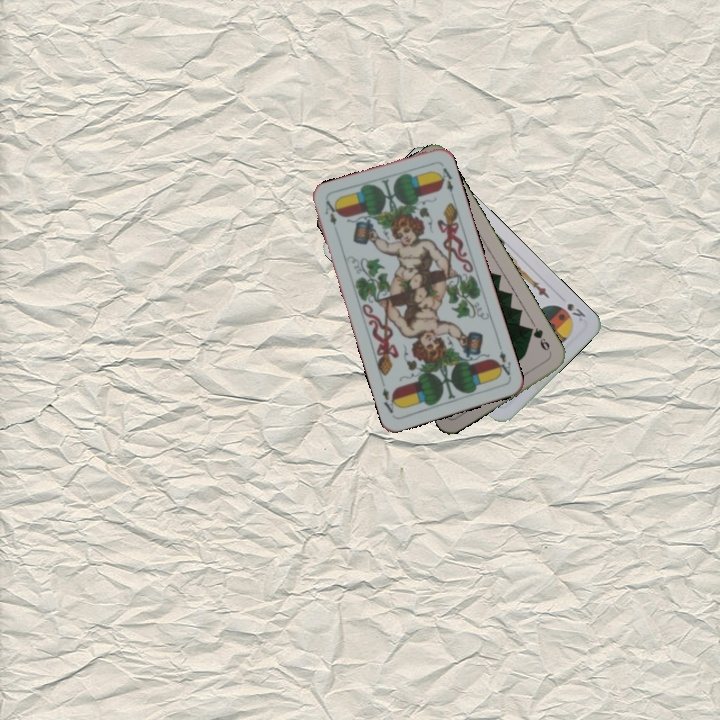EA: (492, 340, 513, 380), (321, 196, 340, 228)
G9: (524, 323, 552, 353)
SK: (563, 299, 588, 324)
